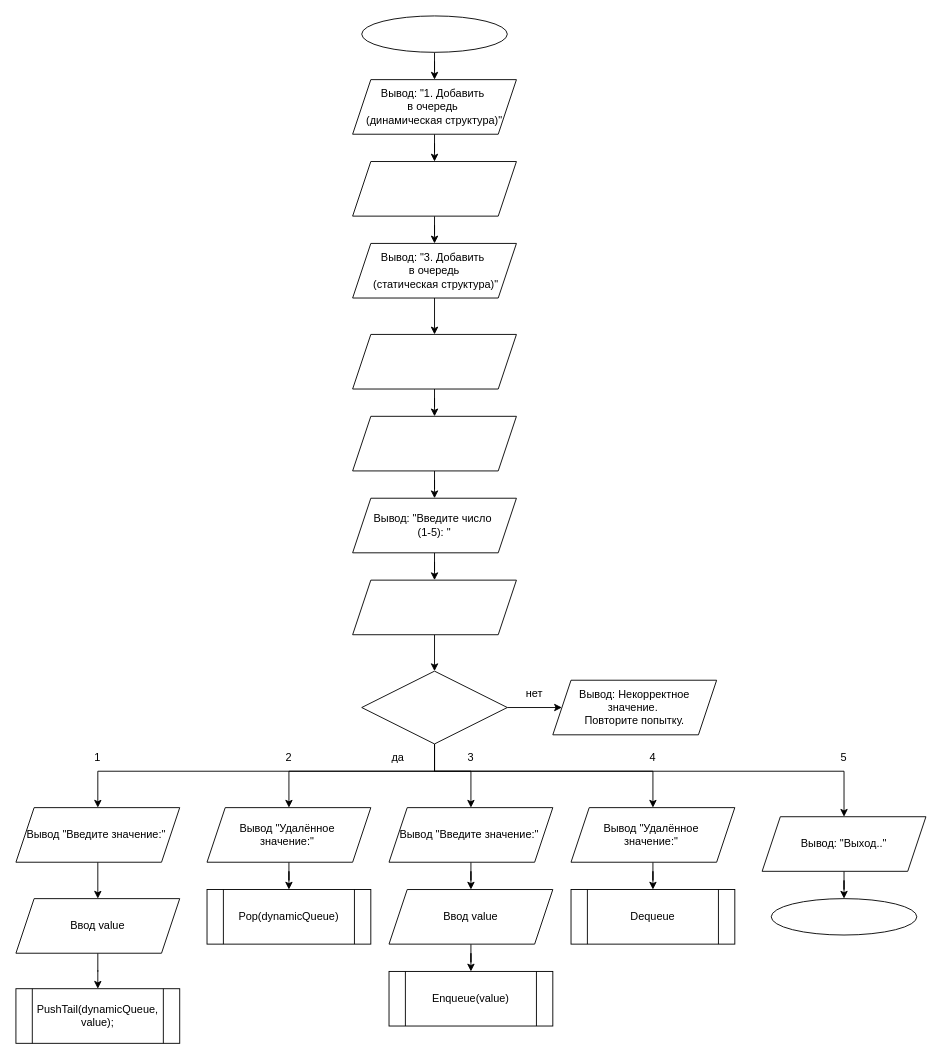
Image size: 942x1059. Some labels were removed from this diagram. Each missing label, with the centre of its shape:
Ввод choice: point 434,607
Выбор действия: point 434,707
Вывод: "2. Удалить из очереди (динамическая структура)": point 434,188
Вывод: "4. Удалить из очереди (статическая структура)": point 434,361
Вывод: "5. Выход": point 434,443
Конец: point 843,916
Начало: point 434,33
